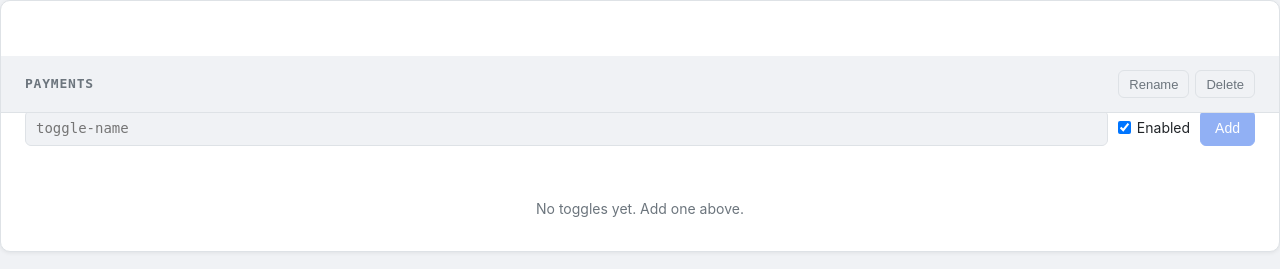
Scenario: GroupSection › clicking No cancels the delete
This screenshot has width=1280, height=269.
Step 1. Click the button "Delete" → (1225, 84), box [1195,70,1255,98]
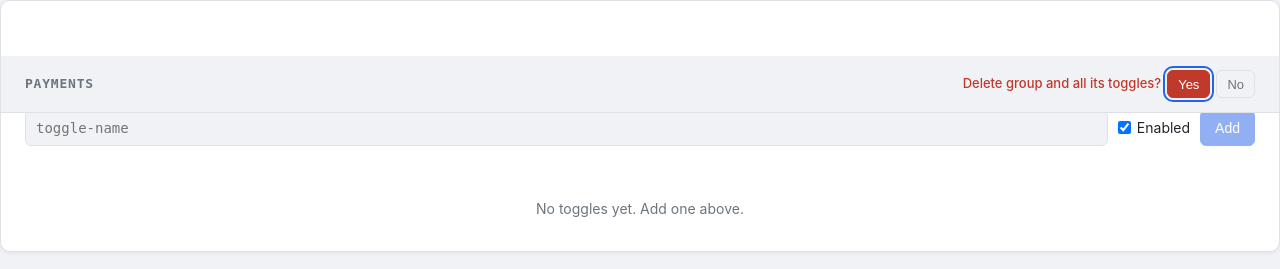
Step 2. Click the button "No" → (1236, 84), box [1216,70,1255,98]
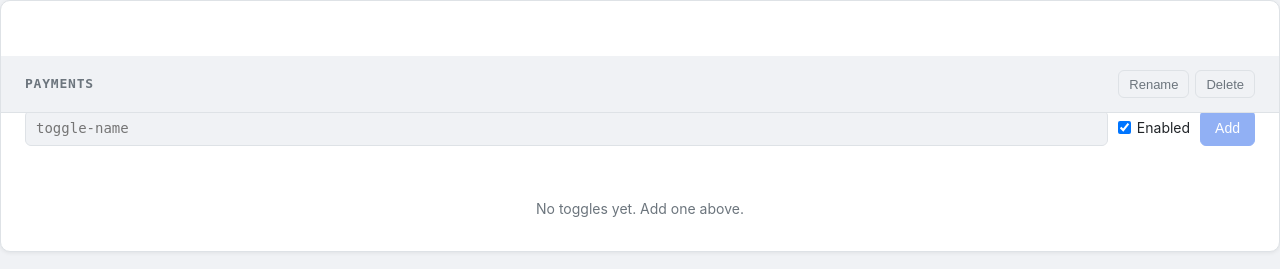
expect the button "Delete" is shown: met, box [1195,70,1255,98]
